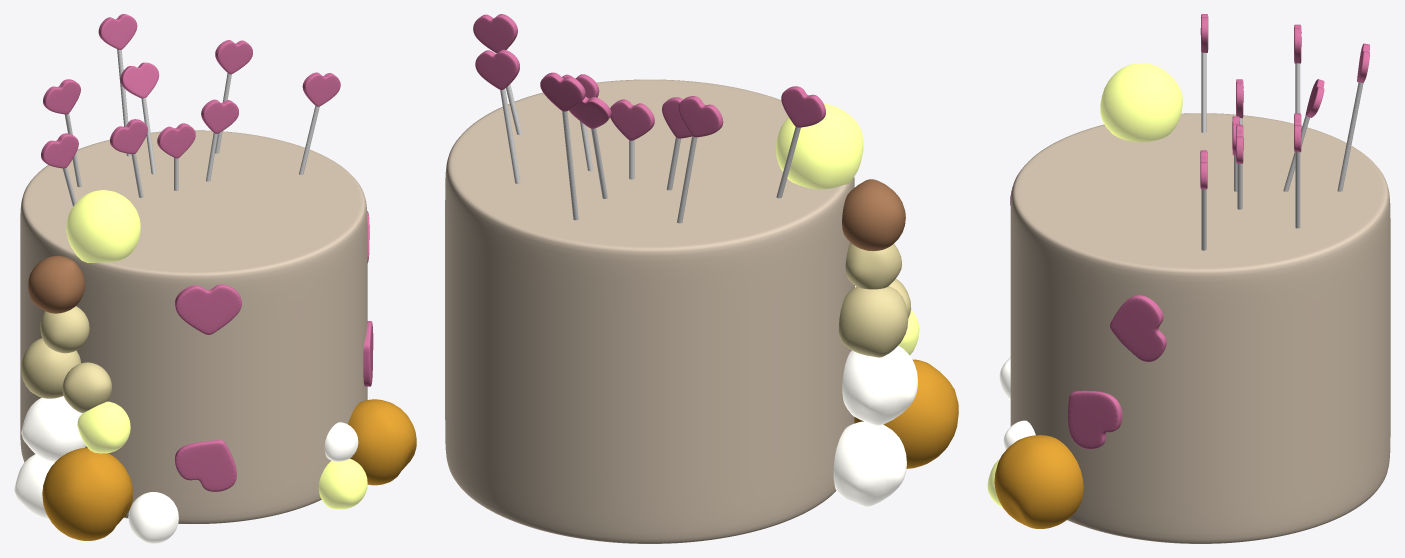
Rendered from Cake_Layer_1_Cream_Topper1_Hearts_NoDrip.glb.
3 views of the same model, side by side, from view 1: azimuth 30°, elevation 25°; view 2: azimuth 150°, elevation 25°; view 3: azimuth 270°, elevation 25° (orthographic). The views are drawn at different scales.
Visible parts, largest first — view 1: Circle.002, Sphere, Sphere.015, Sphere.026, Sphere.002, Sphere.006, Star.003, Star.002, Sphere.005, Sphere.003, Sphere.001, Sphere.025 (+14 smaller); view 2: Circle.002, Sphere.015, Sphere.013, Sphere.002, Sphere, Sphere.005, Sphere.006, Sphere.010, Star.005, Star.006, Star.009, Star.008 (+5 smaller); view 3: Circle.002, Sphere.026, Sphere.015, Star.001, Star.004, Cylinder.049, Sphere.027.
Part boxes in pixels (left/top/right/bottom): Circle.002: left=20, top=130, right=367, bottom=523; Sphere: left=42, top=448, right=132, bottom=540; Sphere.015: left=66, top=190, right=140, bottom=262; Sphere.026: left=348, top=399, right=416, bottom=485; Sphere.002: left=21, top=396, right=85, bottom=462; Sphere.006: left=28, top=256, right=84, bottom=313; Star.003: left=175, top=284, right=241, bottom=334; Star.002: left=175, top=440, right=236, bottom=491; Sphere.005: left=21, top=338, right=80, bottom=398; Sphere.003: left=77, top=401, right=130, bottom=453; Sphere.001: left=128, top=492, right=178, bottom=543; Sphere.025: left=318, top=458, right=367, bottom=509; Circle.002: left=445, top=79, right=854, bottom=543; Sphere.015: left=775, top=104, right=863, bottom=189; Sphere.013: left=833, top=421, right=906, bottom=507; Sphere.002: left=842, top=345, right=917, bottom=425; Sphere: left=854, top=359, right=958, bottom=468; Sphere.005: left=838, top=286, right=908, bottom=357; Sphere.006: left=842, top=179, right=905, bottom=251; Sphere.010: left=845, top=242, right=901, bottom=289; Star.005: left=781, top=86, right=825, bottom=127; Star.006: left=678, top=96, right=723, bottom=137; Star.009: left=475, top=49, right=519, bottom=90; Star.008: left=610, top=99, right=654, bottom=140; Circle.002: left=1010, top=113, right=1390, bottom=543; Sphere.026: left=994, top=435, right=1083, bottom=528; Sphere.015: left=1100, top=63, right=1182, bottom=142; Star.001: left=1110, top=295, right=1166, bottom=362; Star.004: left=1068, top=390, right=1122, bottom=449; Cylinder.049: left=1337, top=82, right=1363, bottom=191; Sphere.027: left=1003, top=420, right=1035, bottom=449.
Size of the model in its own units: 0.1763 by 0.1867 by 0.1591.
